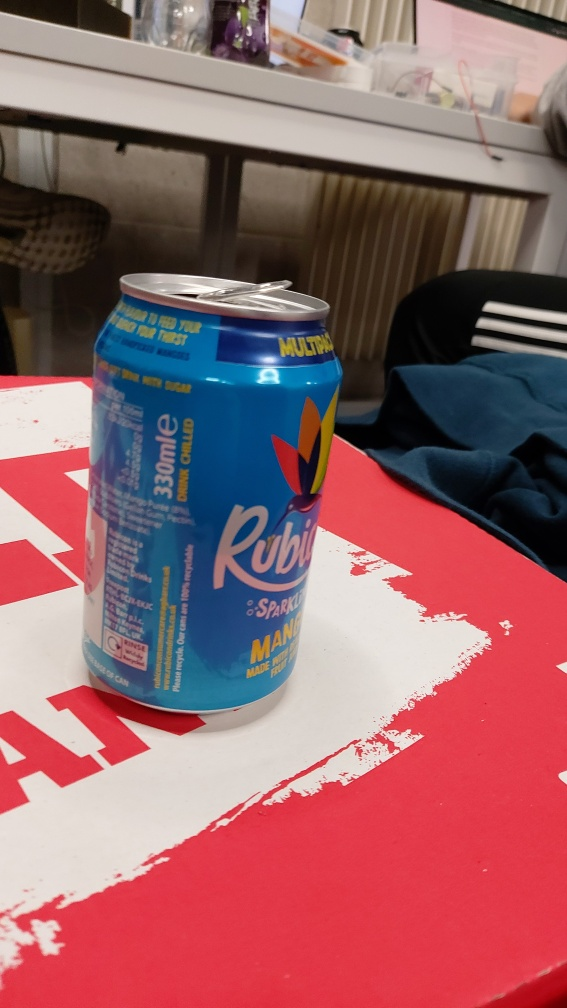can_blue: (63, 240, 337, 734)
